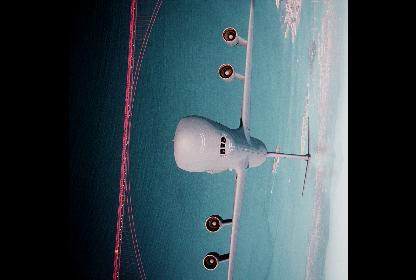C17: (171, 0, 312, 279)
